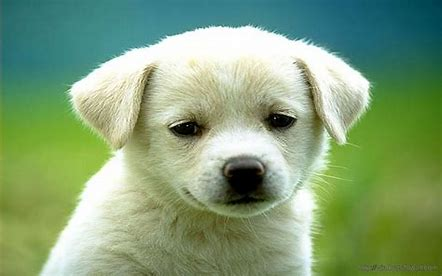dog: (56, 23, 372, 271)
